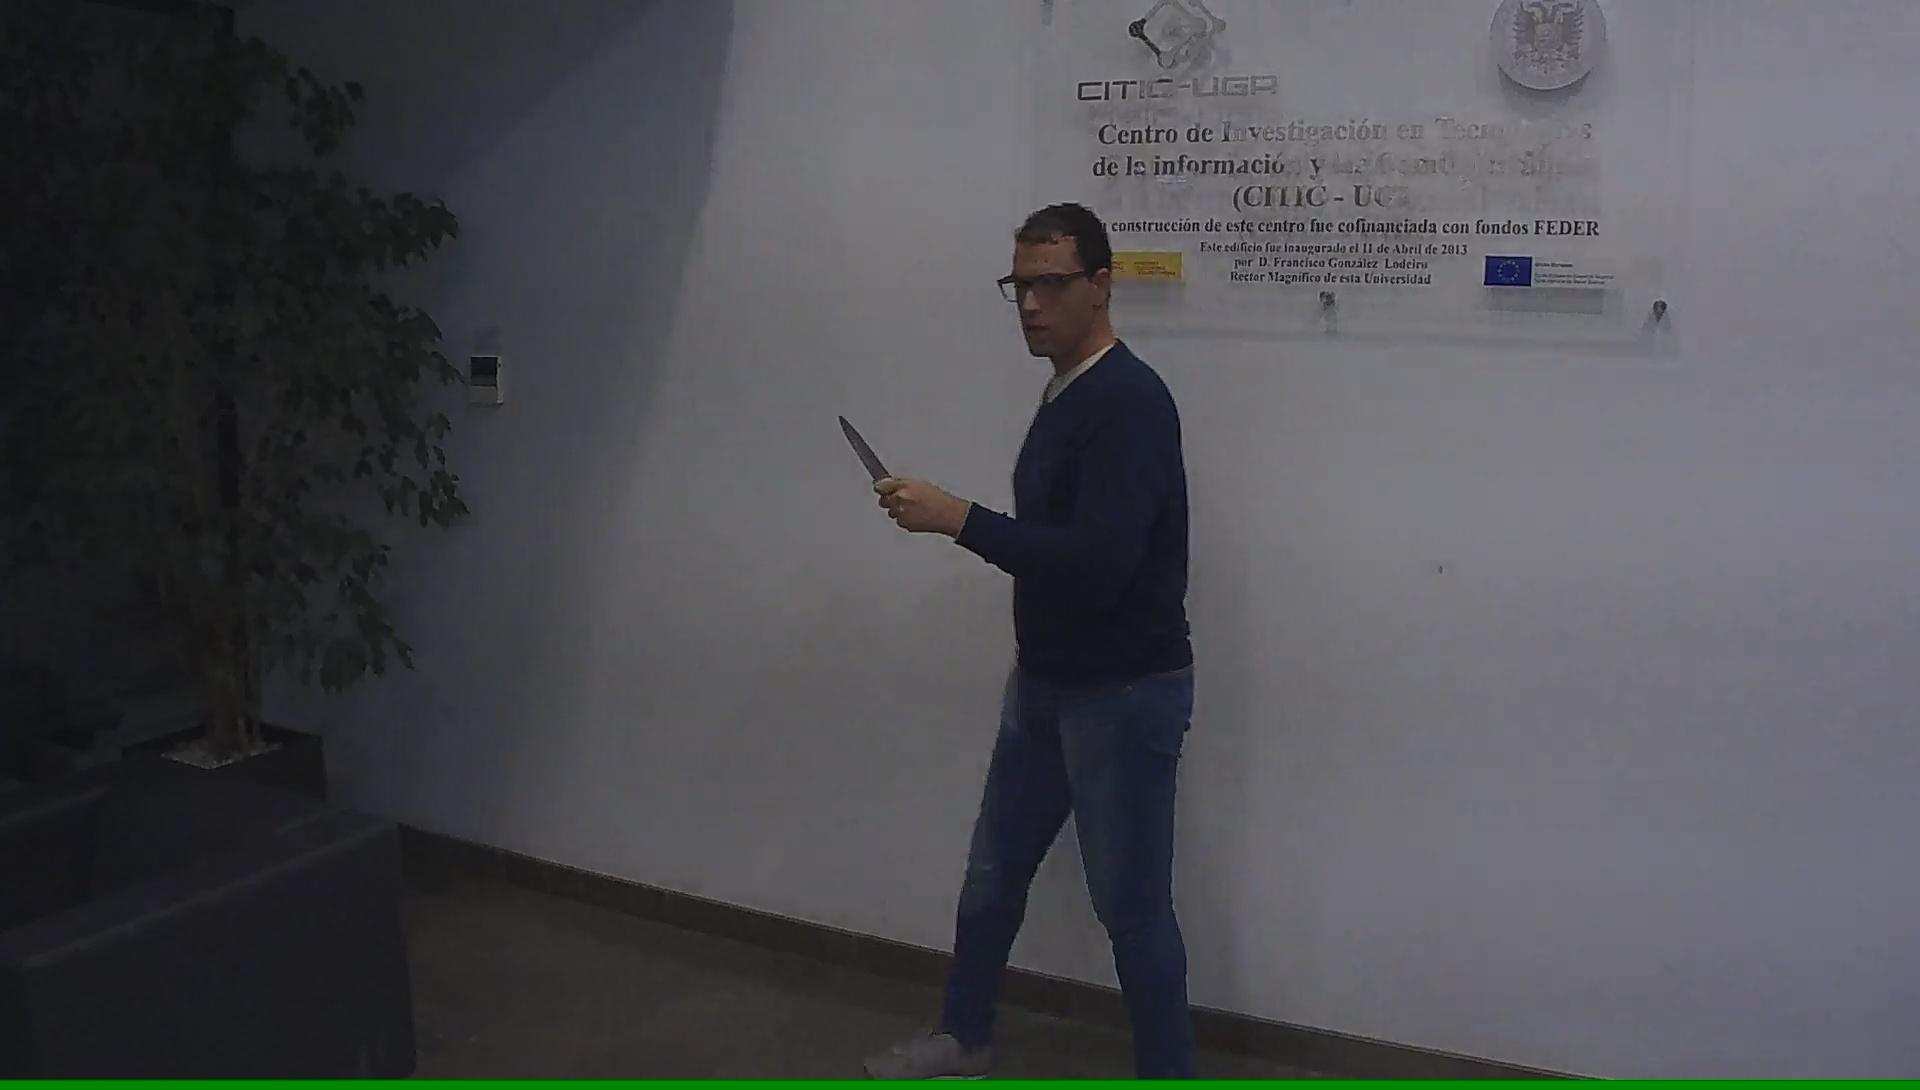criminal: (835, 202, 1197, 1082)
weapon: (839, 414, 895, 489)
